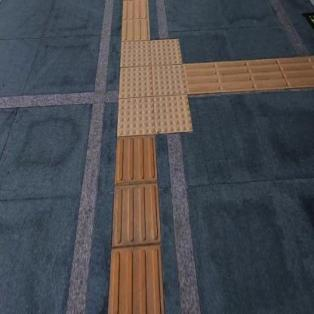Podoctatil: (103, 23, 206, 151), (107, 138, 164, 314), (190, 54, 314, 95), (120, 0, 151, 39)
